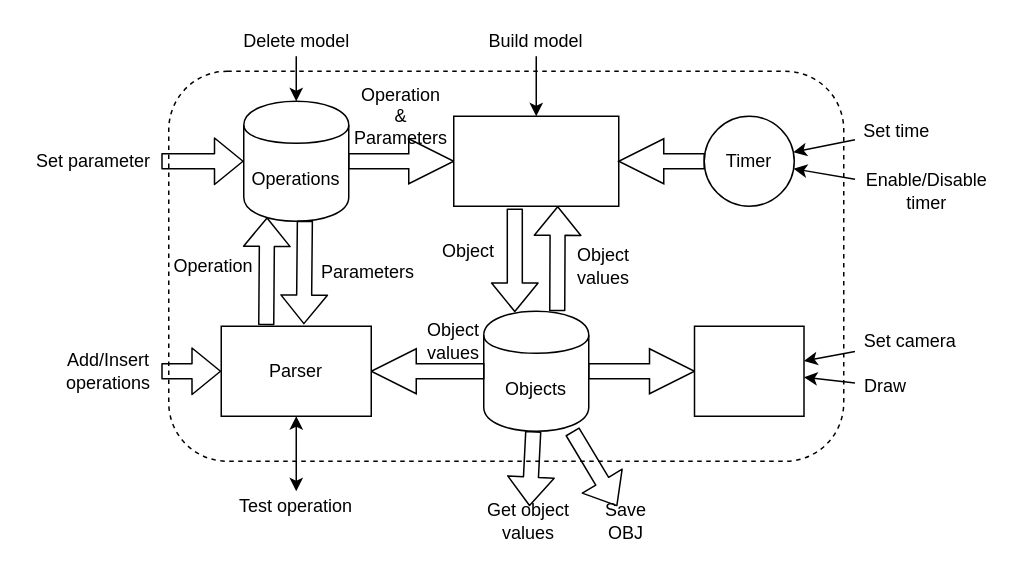
The diagram is 1023 pixels wide and 569 high, and some of its shapes have lost their labels. Here are the shapes that lost their labels. From the top down, the centre of each, then its label:
point 535,160: Builder
point 748,370: Renderer
